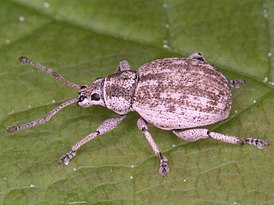dolgonosik: (16, 53, 267, 175)
